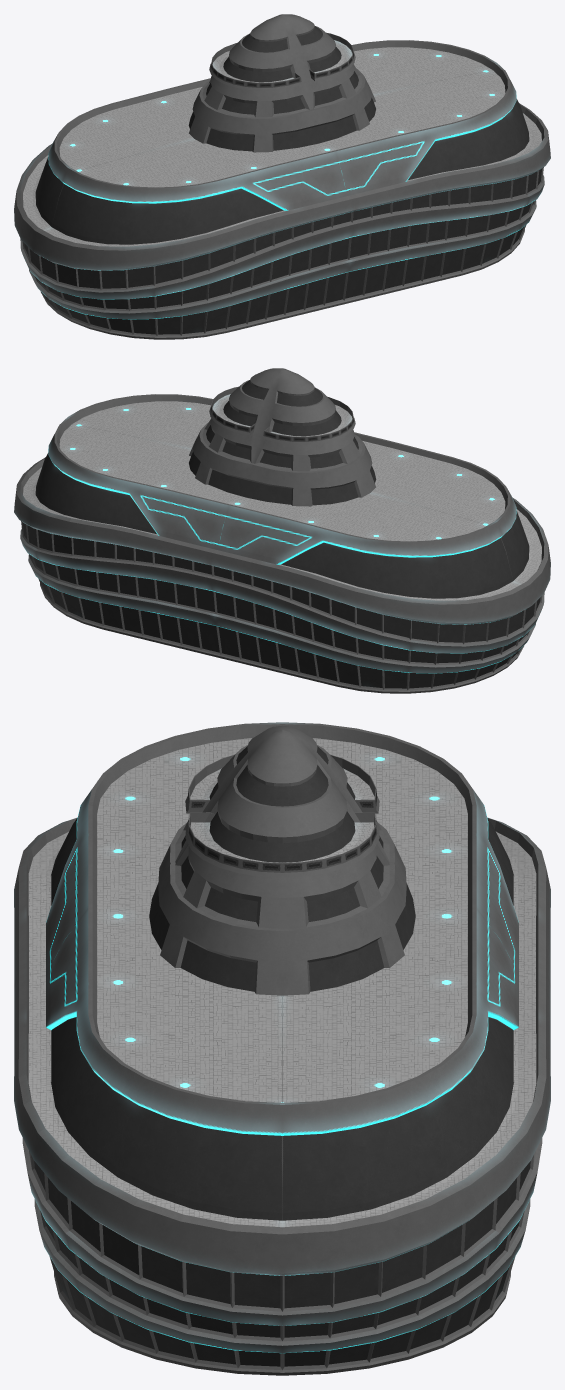
Rendered from bldg_sQt_000.FBX.
3 views of the same model, one above another, from view 1: azimuth 30°, elevation 25°; view 2: azimuth 150°, elevation 25°; view 3: azimuth 270°, elevation 25° (orthographic). The views are drawn at different scales.
Parts seen in each view (by area): view 1: bldg_sqt_00; view 2: bldg_sqt_00; view 3: bldg_sqt_00.
Boxes of the visible parts, x1,y1,x2,y2 form: bldg_sqt_00: (14, 14, 550, 339); bldg_sqt_00: (14, 368, 550, 693); bldg_sqt_00: (14, 722, 550, 1375).
Bounding box in the file's own units: 105 × 49.02 × 53.62.
Materials: 1 (1 with a texture image).
